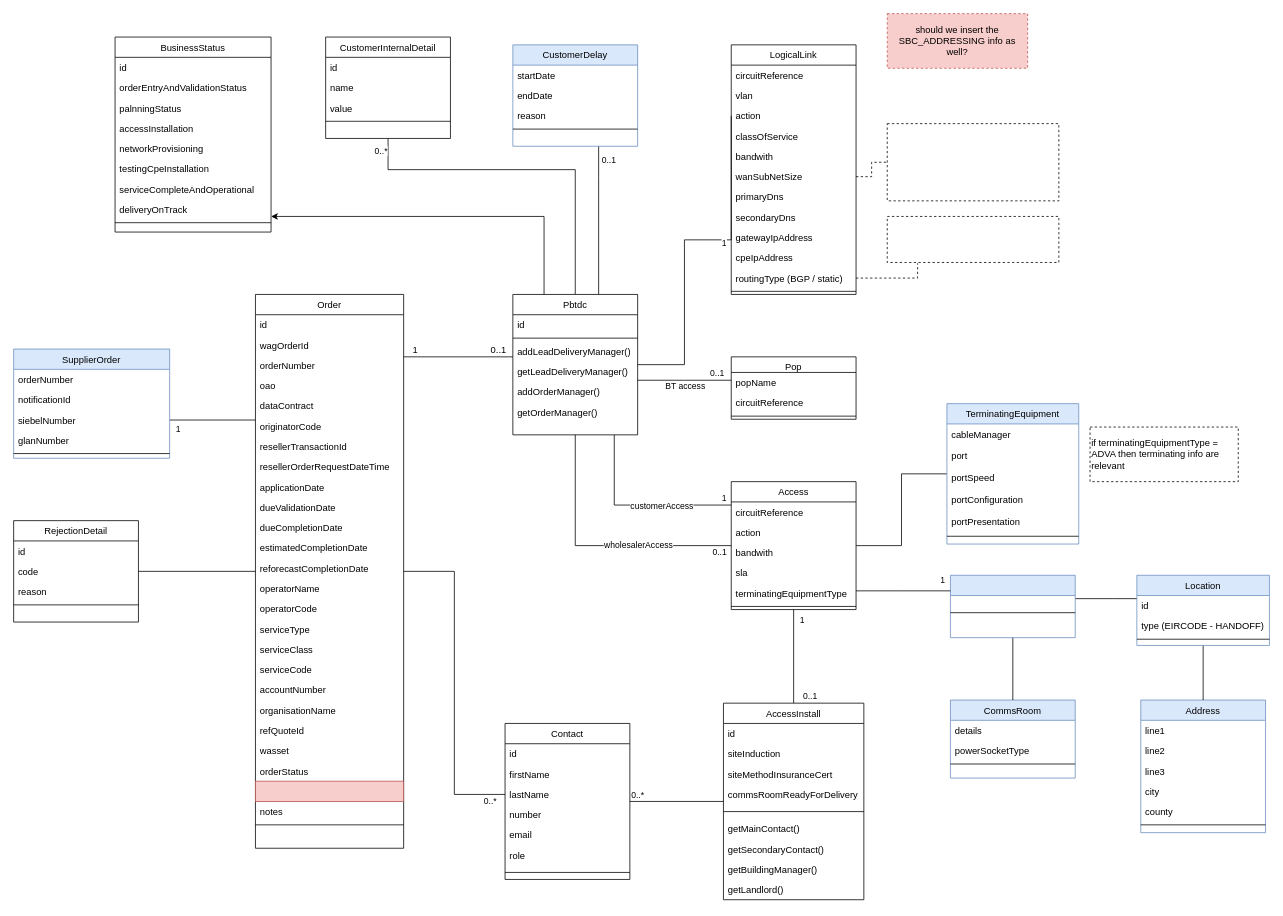
Image size: 1283x916. Some labels were removed from this diagram. The centre of each missing label's shape, as x and y in pixels:
If routing type = BGP then BT ASN and customer ASN becomes applicable: pixel 972 239
Site: pixel 1012 606
wanSubnetSize < /30, then we use gateway IP address otherwise cpeIpAddress: pixel 972 162
workflowStatus (is it used?): pixel 329 790
